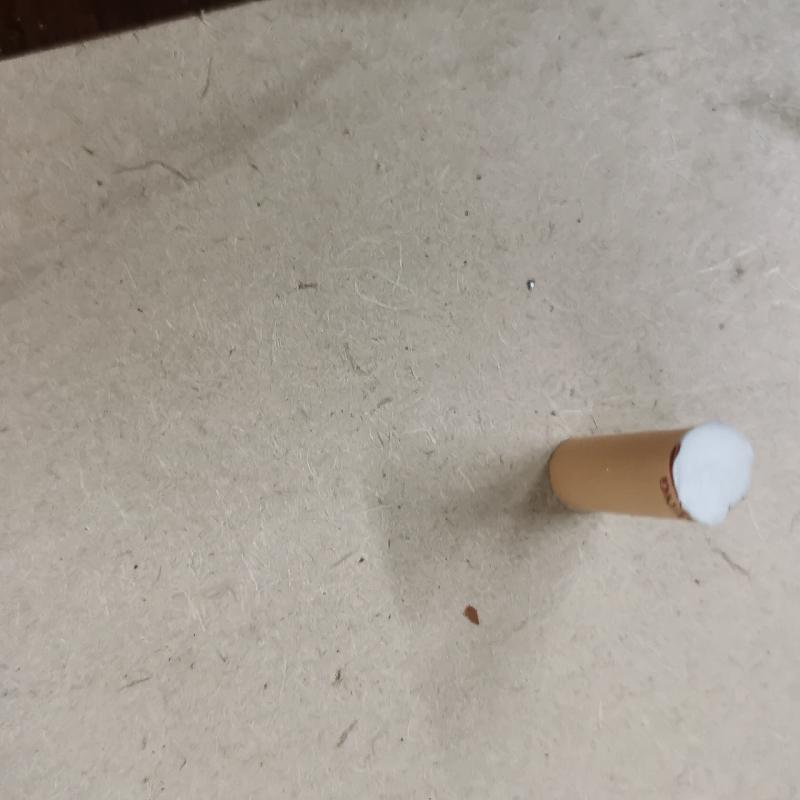cigarette: (542, 418, 760, 527)
